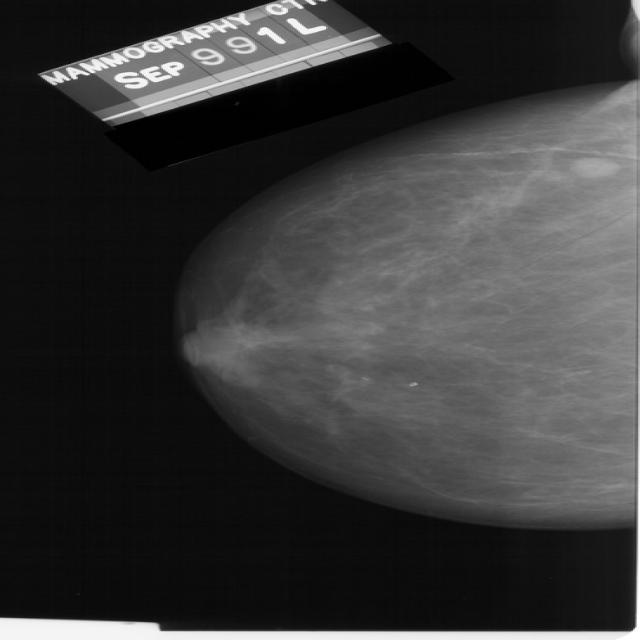tumour: (569, 156, 617, 178)
